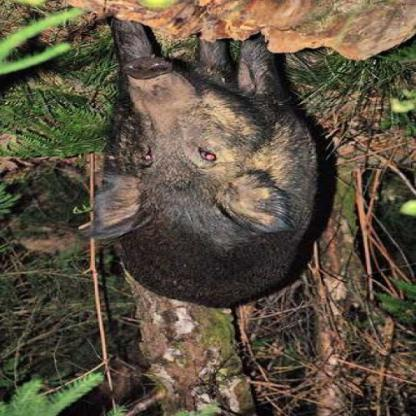boar: (67, 12, 330, 336)
